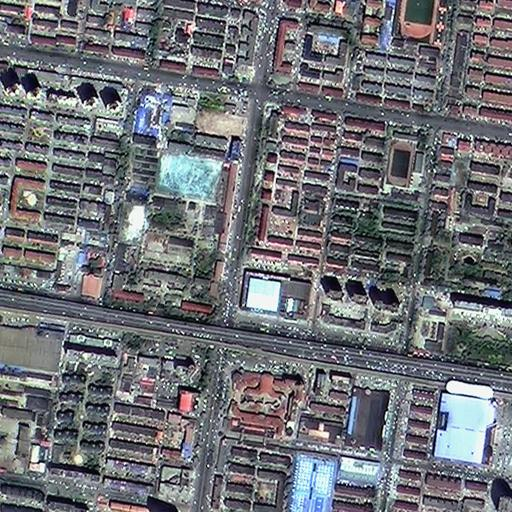school: (378, 126, 425, 201)
